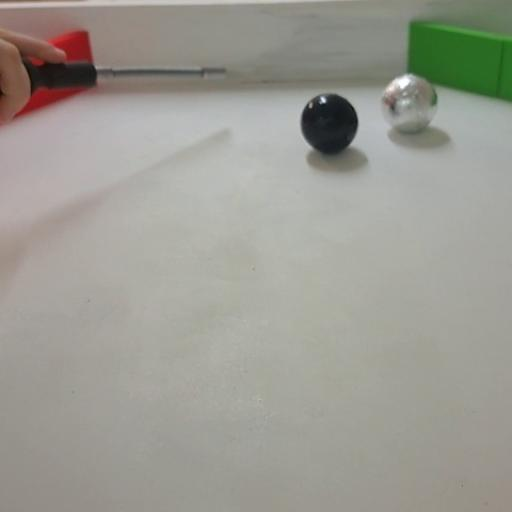alive: (380, 74, 437, 134)
dead: (300, 93, 358, 154)
